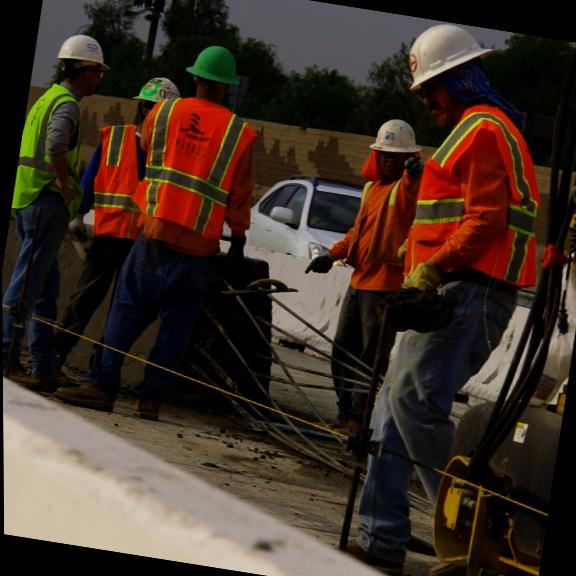no_safety_vest: (330, 162, 427, 300)
safety_vest: (396, 94, 565, 313), (126, 87, 266, 250), (68, 115, 169, 247), (9, 76, 96, 225)
